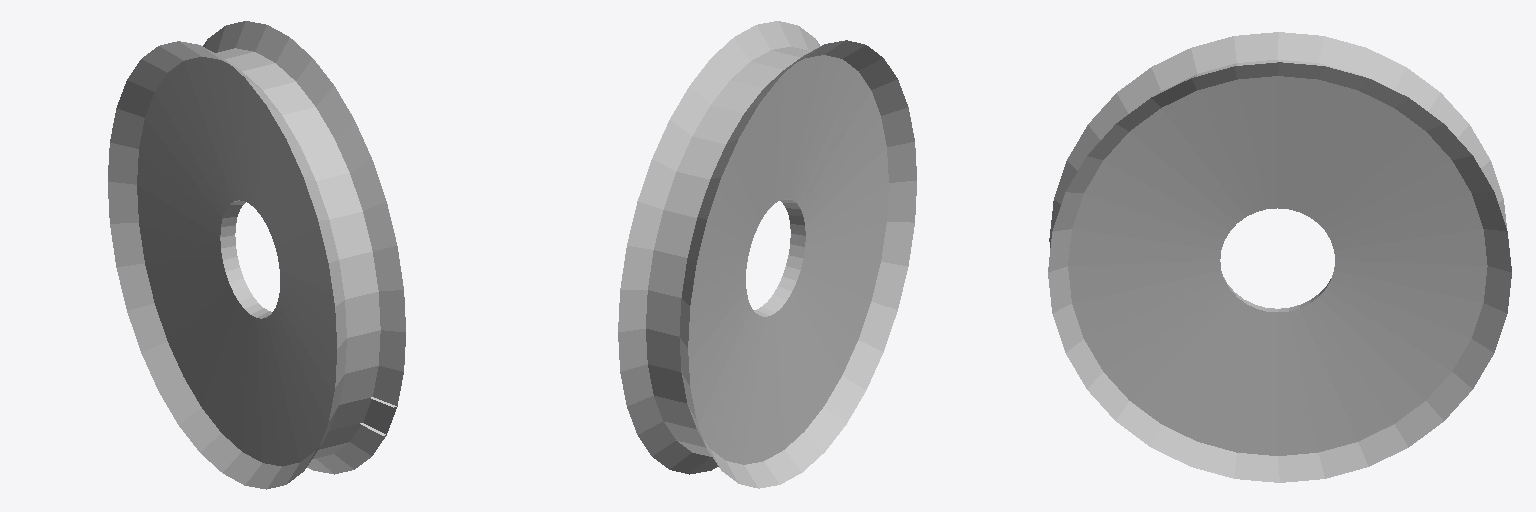
File: disk.obj
3 views of the same model, side by side, from view 1: azimuth 30°, elevation 25°; view 2: azimuth 150°, elevation 25°; view 3: azimuth 270°, elevation 25° (orthographic).
Visible parts, largest first — view 1: Cylinder; view 2: Cylinder; view 3: Cylinder.
Part boxes in pixels (bbox=[...]): Cylinder: bbox=[108, 21, 405, 489]; Cylinder: bbox=[618, 21, 916, 488]; Cylinder: bbox=[1048, 32, 1511, 482].
Bounding box in the file's own units: 0.377 × 2.21 × 2.21.